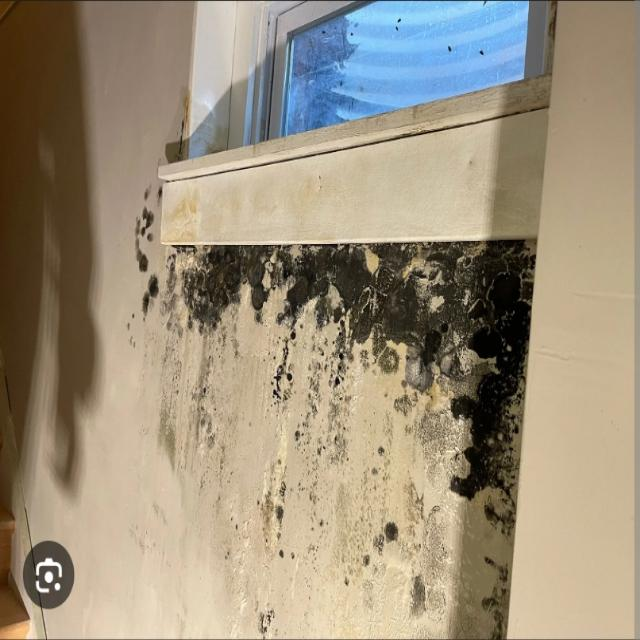mould_on_wall: (148, 237, 539, 639), (126, 179, 165, 354)
wall_leaking: (162, 87, 191, 166)
